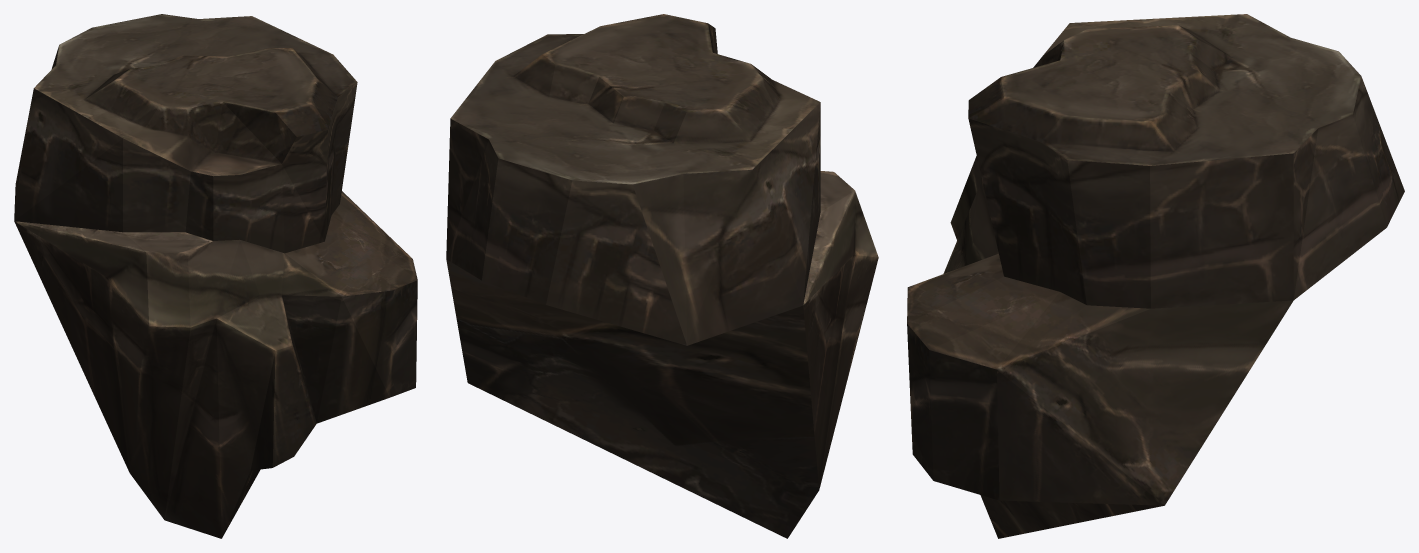
File: Z_yanshi001.fbx
3 renders of one model, left to right at view 1: azimuth 30°, elevation 25°; view 2: azimuth 150°, elevation 25°; view 3: azimuth 270°, elevation 25°, orthographic. The views are drawn at different scales.
Visible parts, largest first — view 1: Z_yanshi001; view 2: Z_yanshi001; view 3: Z_yanshi001.
Part boxes in pixels (x1,y1,x2,y2): Z_yanshi001: (14, 14, 417, 538); Z_yanshi001: (446, 14, 878, 538); Z_yanshi001: (907, 14, 1404, 538).
Size of the model in its own units: 303 by 387 by 353.
